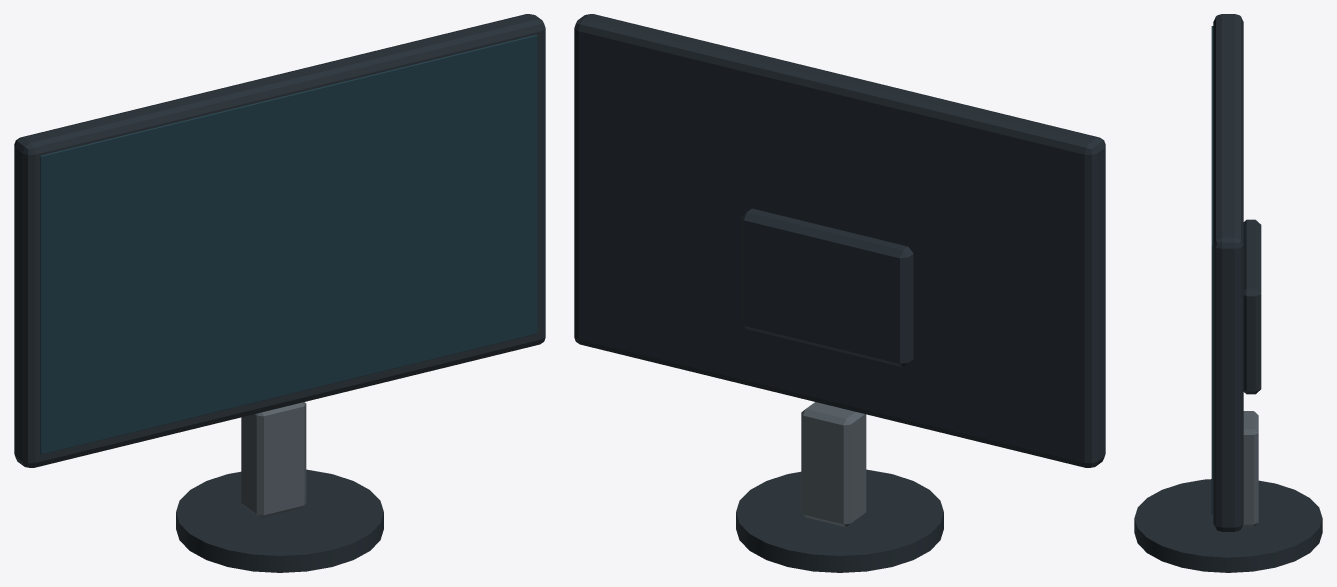
The model's file is monitor_desktop.glb.
3 renders of one model, left to right at view 1: azimuth 30°, elevation 25°; view 2: azimuth 150°, elevation 25°; view 3: azimuth 270°, elevation 25°, orthographic. The views are drawn at different scales.
Parts seen in each view (by area): view 1: monitor_desktop; view 2: monitor_desktop; view 3: monitor_desktop.
Part boxes in pixels (x1,y1,x2,y2): monitor_desktop: [14, 14, 545, 572]; monitor_desktop: [574, 14, 1105, 572]; monitor_desktop: [1134, 14, 1322, 572].
Size of the model in its own units: 0.58 by 0.478 by 0.2.
